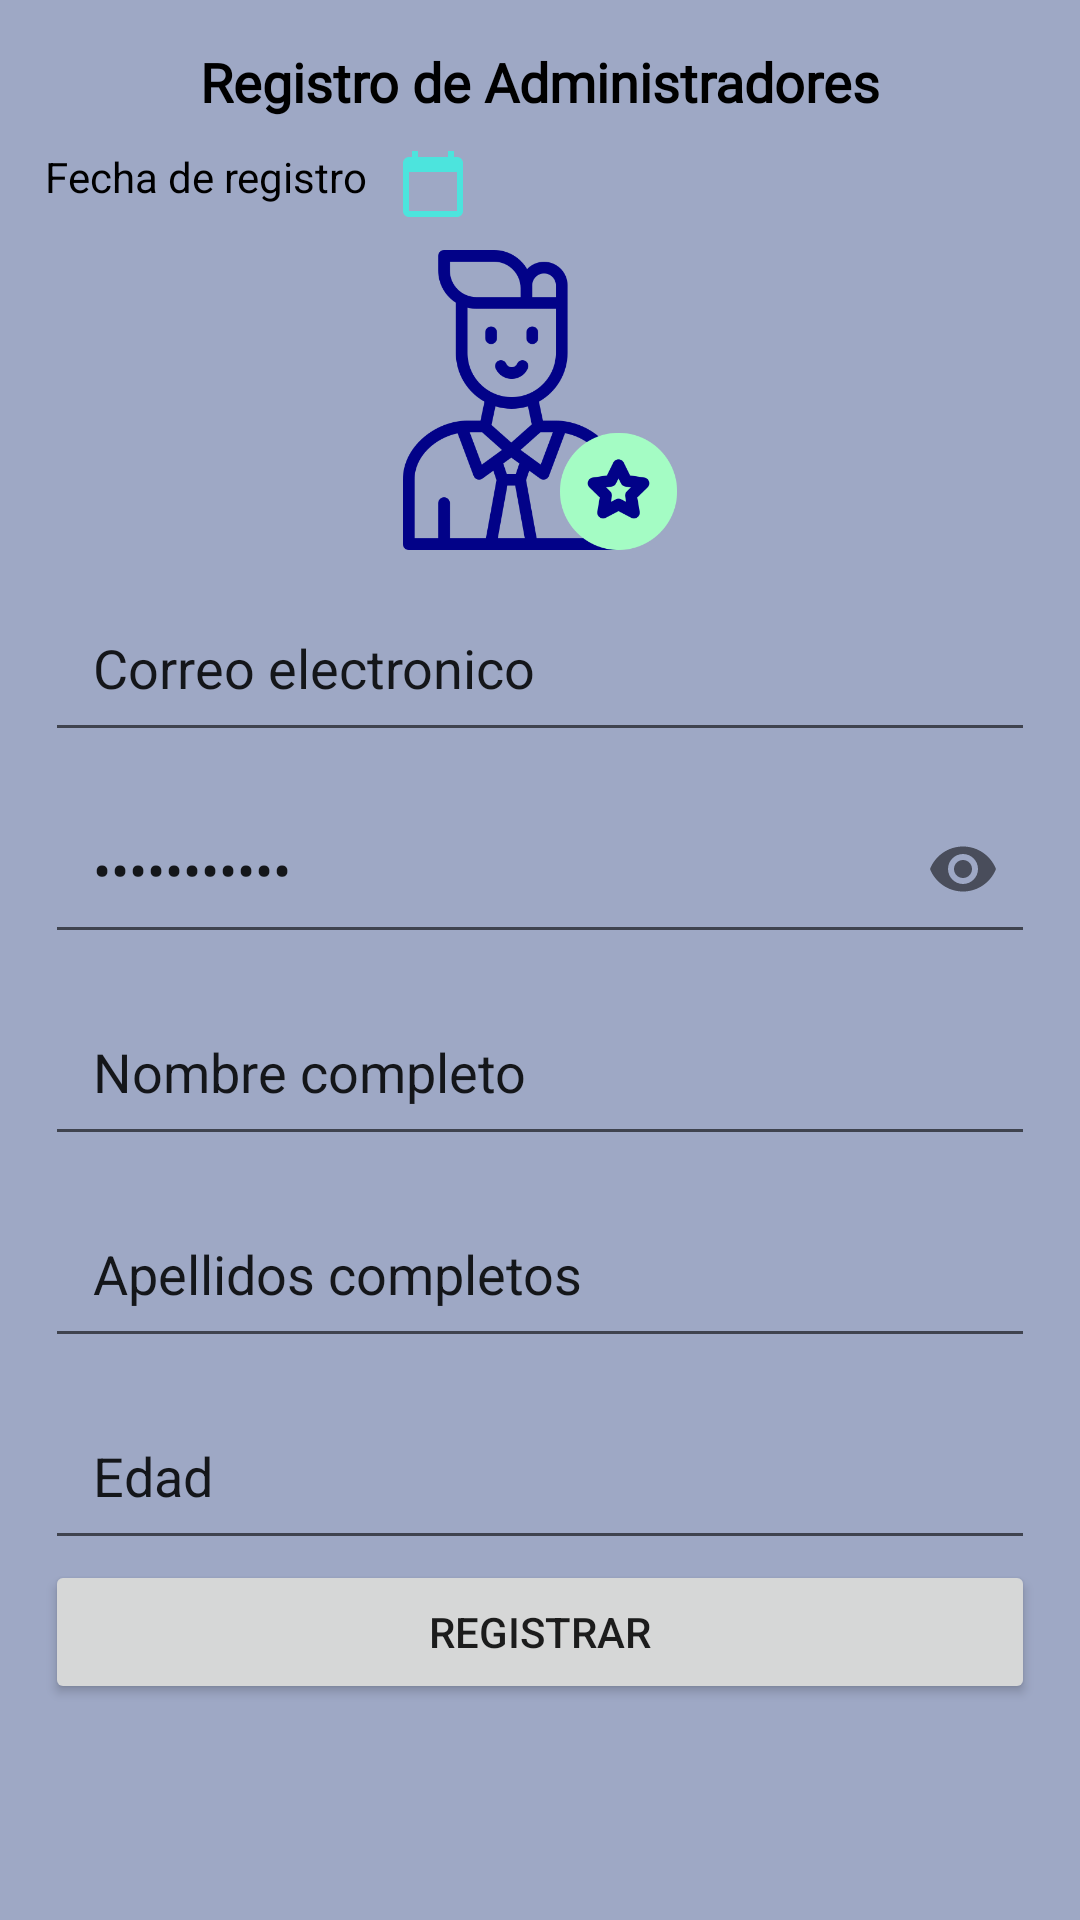

Named icons in this screenshot (1080*1920) and their centers, (x=x, y=y):
calendario: (x=433, y=184)
